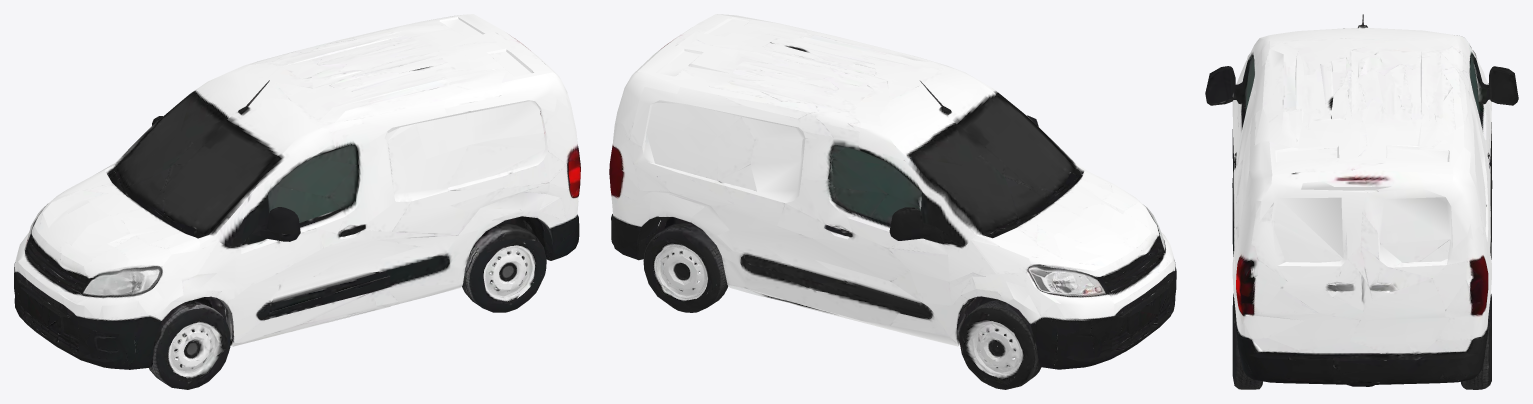
The model's file is van.glb.
3 renders of one model, left to right at view 1: azimuth 30°, elevation 25°; view 2: azimuth 150°, elevation 25°; view 3: azimuth 270°, elevation 25°, orthographic. The views are drawn at different scales.
Parts seen in each view (by area): view 1: Mesh_0; view 2: Mesh_0; view 3: Mesh_0.
Boxes of the visible parts, x1,y1,x2,y2 form: Mesh_0: (14,14,580,389); Mesh_0: (609,14,1176,389); Mesh_0: (1205,14,1518,389).
Bounding box in the file's own units: 1.9 × 0.8598 × 0.9076.
1 material, 1 textured.
